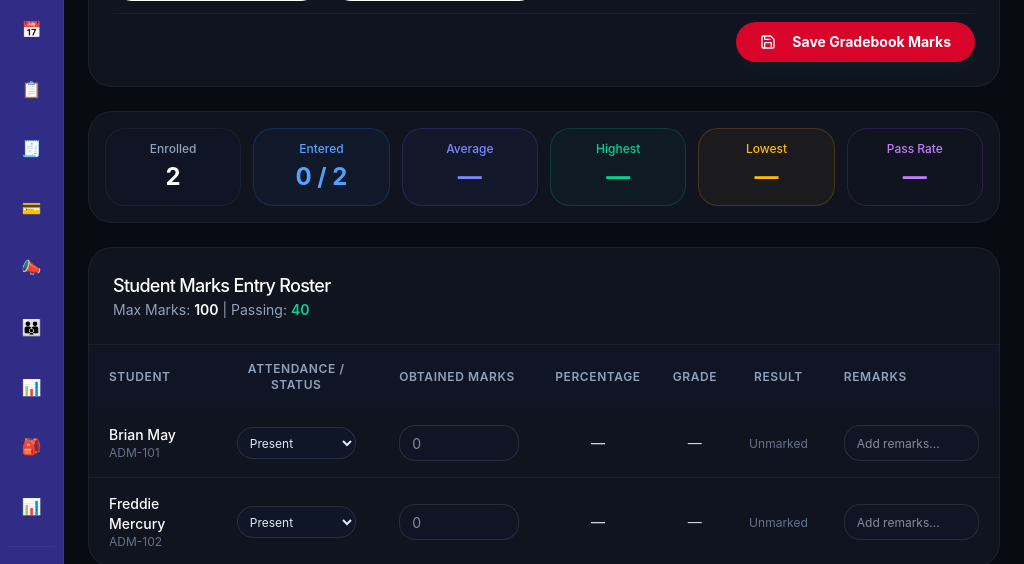
Test: Epic 10L: Examination & Result Management Enhancement › saves marks for All Sections examination subject, confirms persistence, and displays success
(page scrolled)
Check: the heading "Student Marks Entry Roster" is shown, box [113,272,330,300]
Check: the text "Brian May" is shown, box [109,426,176,443]
Step 1. Type "78" into the number field with placeholder "0" in the row of "Brian" → (459,443), box [399,425,519,461]
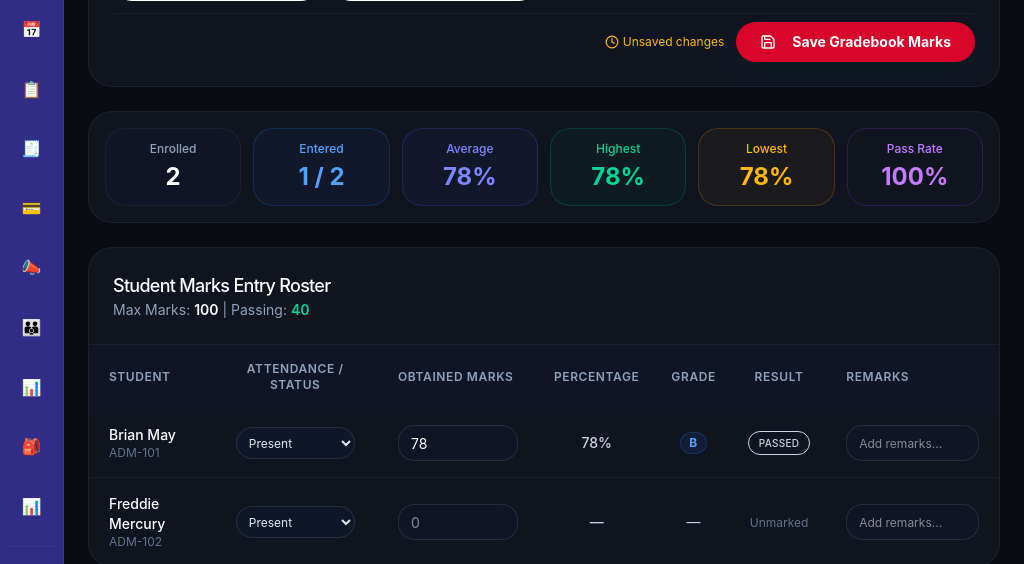
Check: the text "Unsaved changes" is shown, box [605,34,724,50]
Note: Click Save Gradebook Marks
Step 2. Click the button "Save Gradebook Marks" → (856,42), box [736,22,975,62]
(page scrolled)
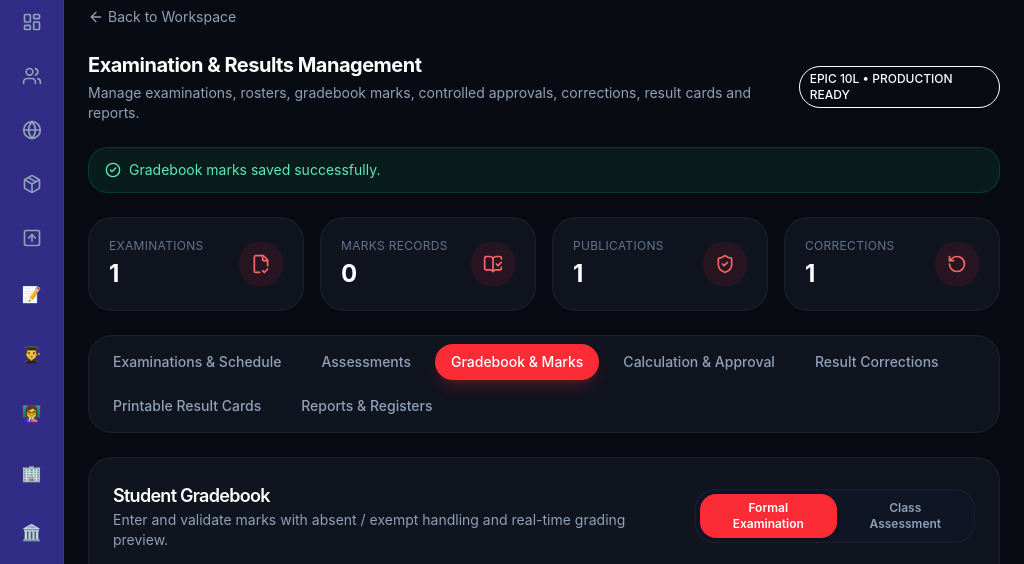
Check: the text "Gradebook marks saved successfully." is shown, box [88,147,1000,193]
